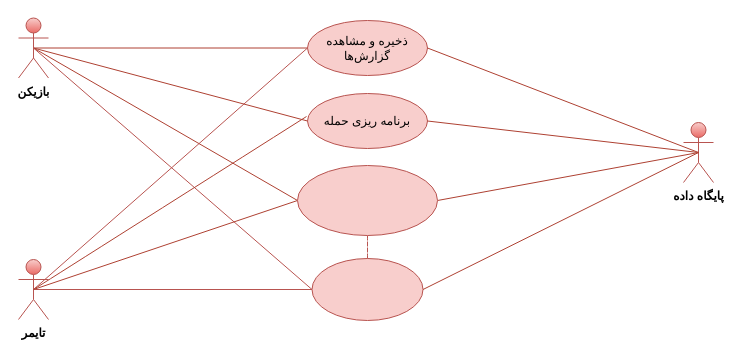
This 741x357 diagram has some shape labels left out. The centre of each missing label's shape, as x and y in pixels:
انجام دادن حمله: point 367,289
نتظیم مقدمات حمله: point 367,200
